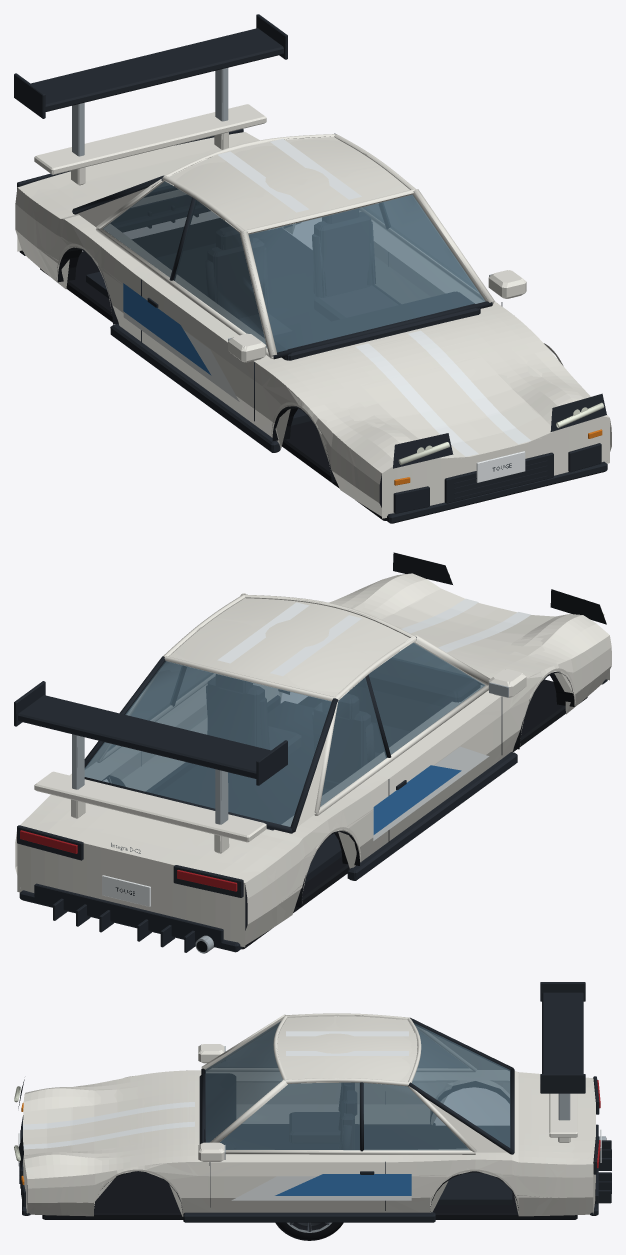
3 renders of one model, top to bottom at view 1: azimuth 30°, elevation 25°; view 2: azimuth 150°, elevation 25°; view 3: azimuth 270°, elevation 25°, orthographic. The views are drawn at different scales.
Visible parts, largest first — view 1: LOD0_body, LOD0_cabin, LOD0_glass, LOD1_glass, LOD1_body, LOD0_hood, LOD1_hood, LOD1_spoiler_gt, LOD1_cabin, LOD0_spoiler_gt, LOD1_spoiler_stock, LOD1_vinyl_twin (+3 smaller); view 2: LOD0_body, LOD0_cabin, LOD0_glass, LOD1_glass, LOD1_body, LOD1_spoiler_gt, LOD1_cabin, LOD0_hood, LOD1_hood, LOD0_spoiler_gt, LOD1_spoiler_stock, LOD0_vinyl_apex (+3 smaller); view 3: LOD0_body, LOD0_cabin, LOD0_glass, LOD1_glass, LOD1_body, LOD0_hood, LOD1_hood, LOD0_vinyl_apex, LOD1_cabin, LOD1_spoiler_gt, LOD0_spoiler_gt, LOD0_vinyl_twin (+5 smaller).
Boxes of the visible parts, <box> form: LOD0_body: <box>15,129,611,523</box>; LOD0_cabin: <box>72,133,494,425</box>; LOD0_glass: <box>103,181,485,351</box>; LOD1_glass: <box>103,182,484,352</box>; LOD1_body: <box>15,129,611,523</box>; LOD0_hood: <box>277,310,583,459</box>; LOD1_hood: <box>300,320,569,458</box>; LOD1_spoiler_gt: <box>14,28,286,156</box>; LOD1_cabin: <box>73,134,489,424</box>; LOD0_spoiler_gt: <box>14,14,287,156</box>; LOD1_spoiler_stock: <box>34,104,266,185</box>; LOD1_vinyl_twin: <box>218,139,530,456</box>; LOD0_body: <box>15,552,611,953</box>; LOD0_cabin: <box>84,593,489,891</box>; LOD0_glass: <box>85,643,484,826</box>; LOD1_glass: <box>84,643,485,826</box>; LOD1_body: <box>15,579,609,953</box>; LOD1_spoiler_gt: <box>16,681,274,824</box>; LOD1_cabin: <box>158,594,483,890</box>; LOD0_hood: <box>340,573,596,687</box>; LOD1_hood: <box>353,589,569,663</box>; LOD0_spoiler_gt: <box>14,681,287,824</box>; LOD1_spoiler_stock: <box>34,771,266,853</box>; LOD0_vinyl_apex: <box>373,746,489,840</box>; LOD0_body: <box>14,1044,611,1222</box>; LOD0_cabin: <box>199,1013,514,1204</box>; LOD0_glass: <box>205,1021,510,1150</box>; LOD1_glass: <box>205,1022,510,1150</box>; LOD1_body: <box>15,1044,606,1222</box>; LOD0_hood: <box>23,1075,200,1167</box>; LOD1_hood: <box>23,1081,191,1157</box>; LOD0_vinyl_apex: <box>231,1174,411,1200</box>; LOD1_cabin: <box>200,1015,514,1204</box>; LOD1_spoiler_gt: <box>540,982,585,1119</box>; LOD0_spoiler_gt: <box>540,982,585,1120</box>; LOD0_vinyl_twin: <box>29,1031,408,1148</box>.
Size of the model in its own units: 1.96 by 1.76 by 4.57.
